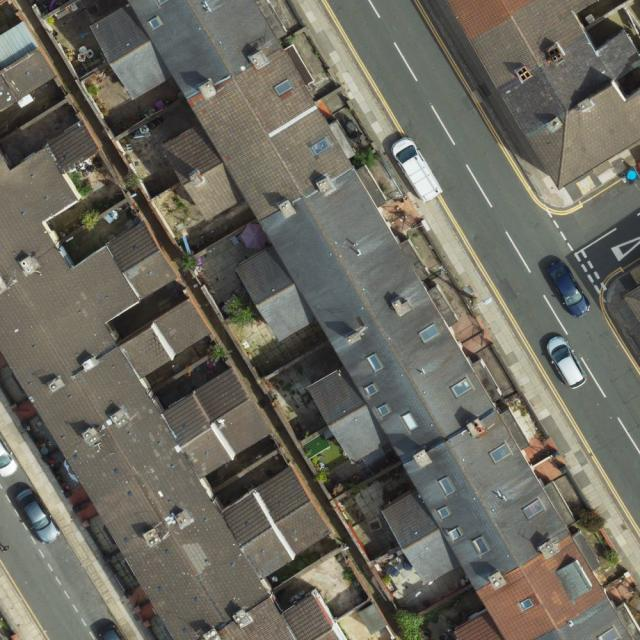roof: (90, 0, 637, 640), (1, 119, 341, 640), (445, 0, 640, 191), (0, 47, 58, 112), (623, 264, 640, 323)
skylight: (521, 497, 545, 520), (491, 442, 513, 464), (451, 377, 475, 397), (400, 411, 421, 431), (418, 324, 440, 343), (472, 536, 492, 556), (368, 351, 385, 373), (311, 138, 332, 155), (438, 476, 455, 496), (598, 626, 620, 640), (273, 80, 293, 95), (148, 16, 164, 30), (449, 527, 463, 542), (520, 598, 534, 612), (436, 506, 452, 518), (379, 402, 392, 416), (366, 383, 380, 396), (158, 1, 167, 5)
